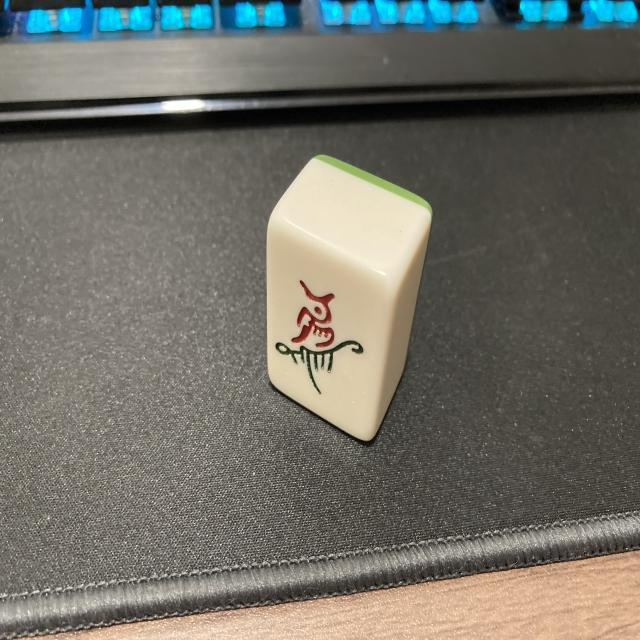s1: (270, 245, 393, 435)
